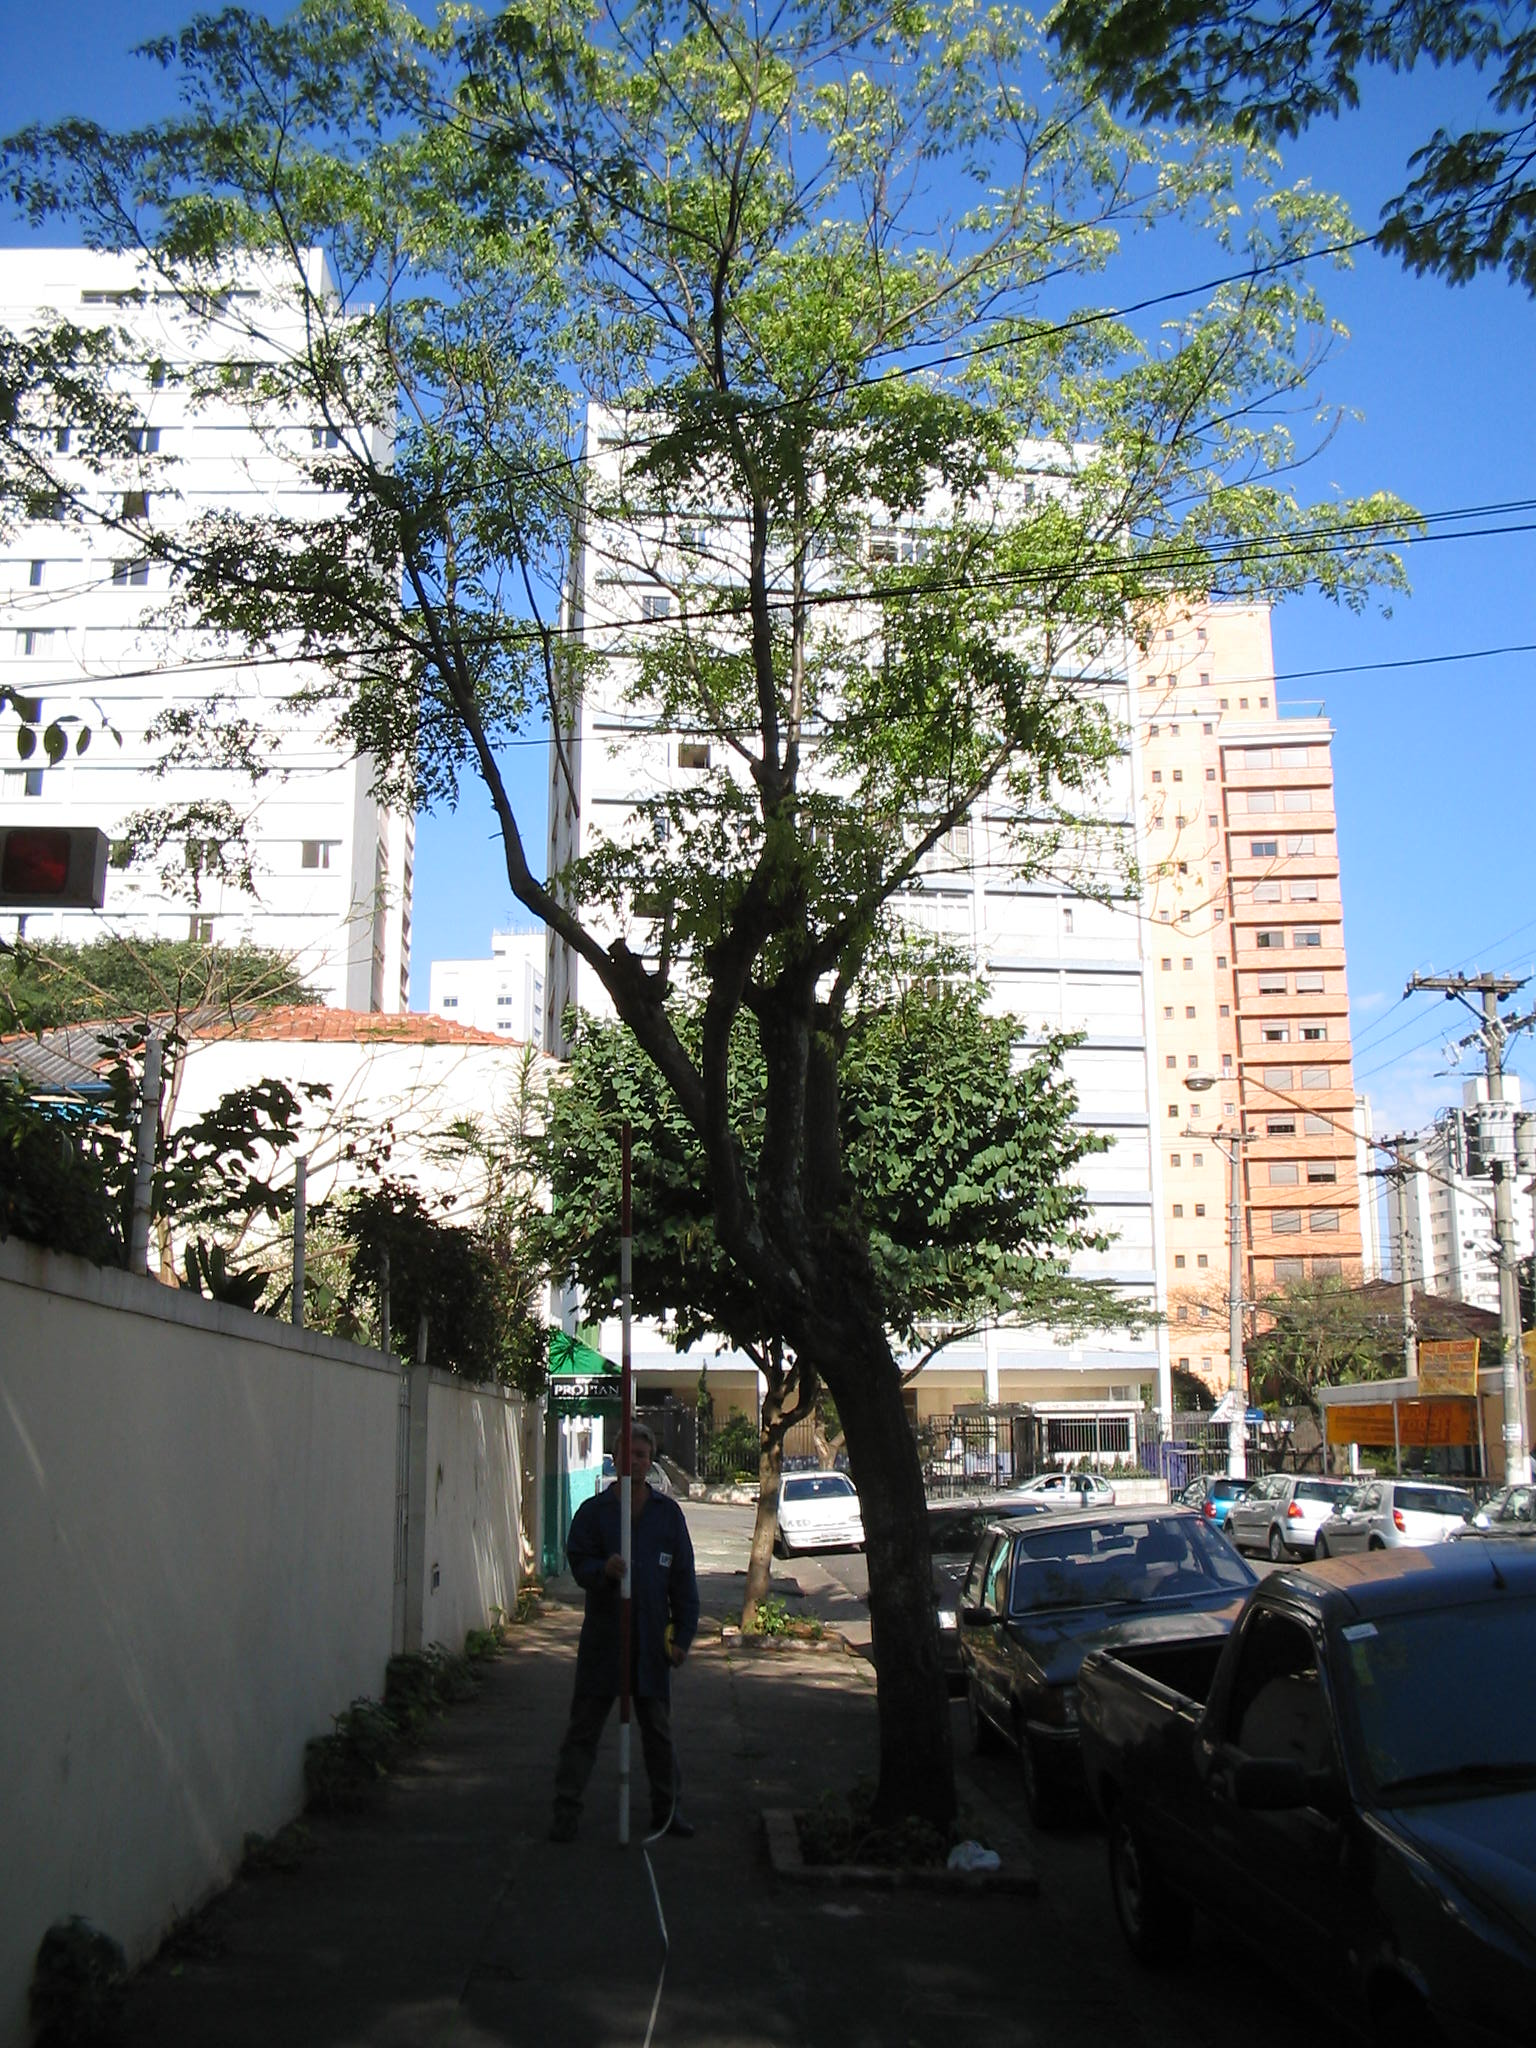crown: (10, 16, 1417, 940)
stem: (792, 1387, 1007, 1825), (721, 1421, 808, 1634)
stick: (595, 1118, 665, 1861)
tree: (3, 3, 1421, 1866)
